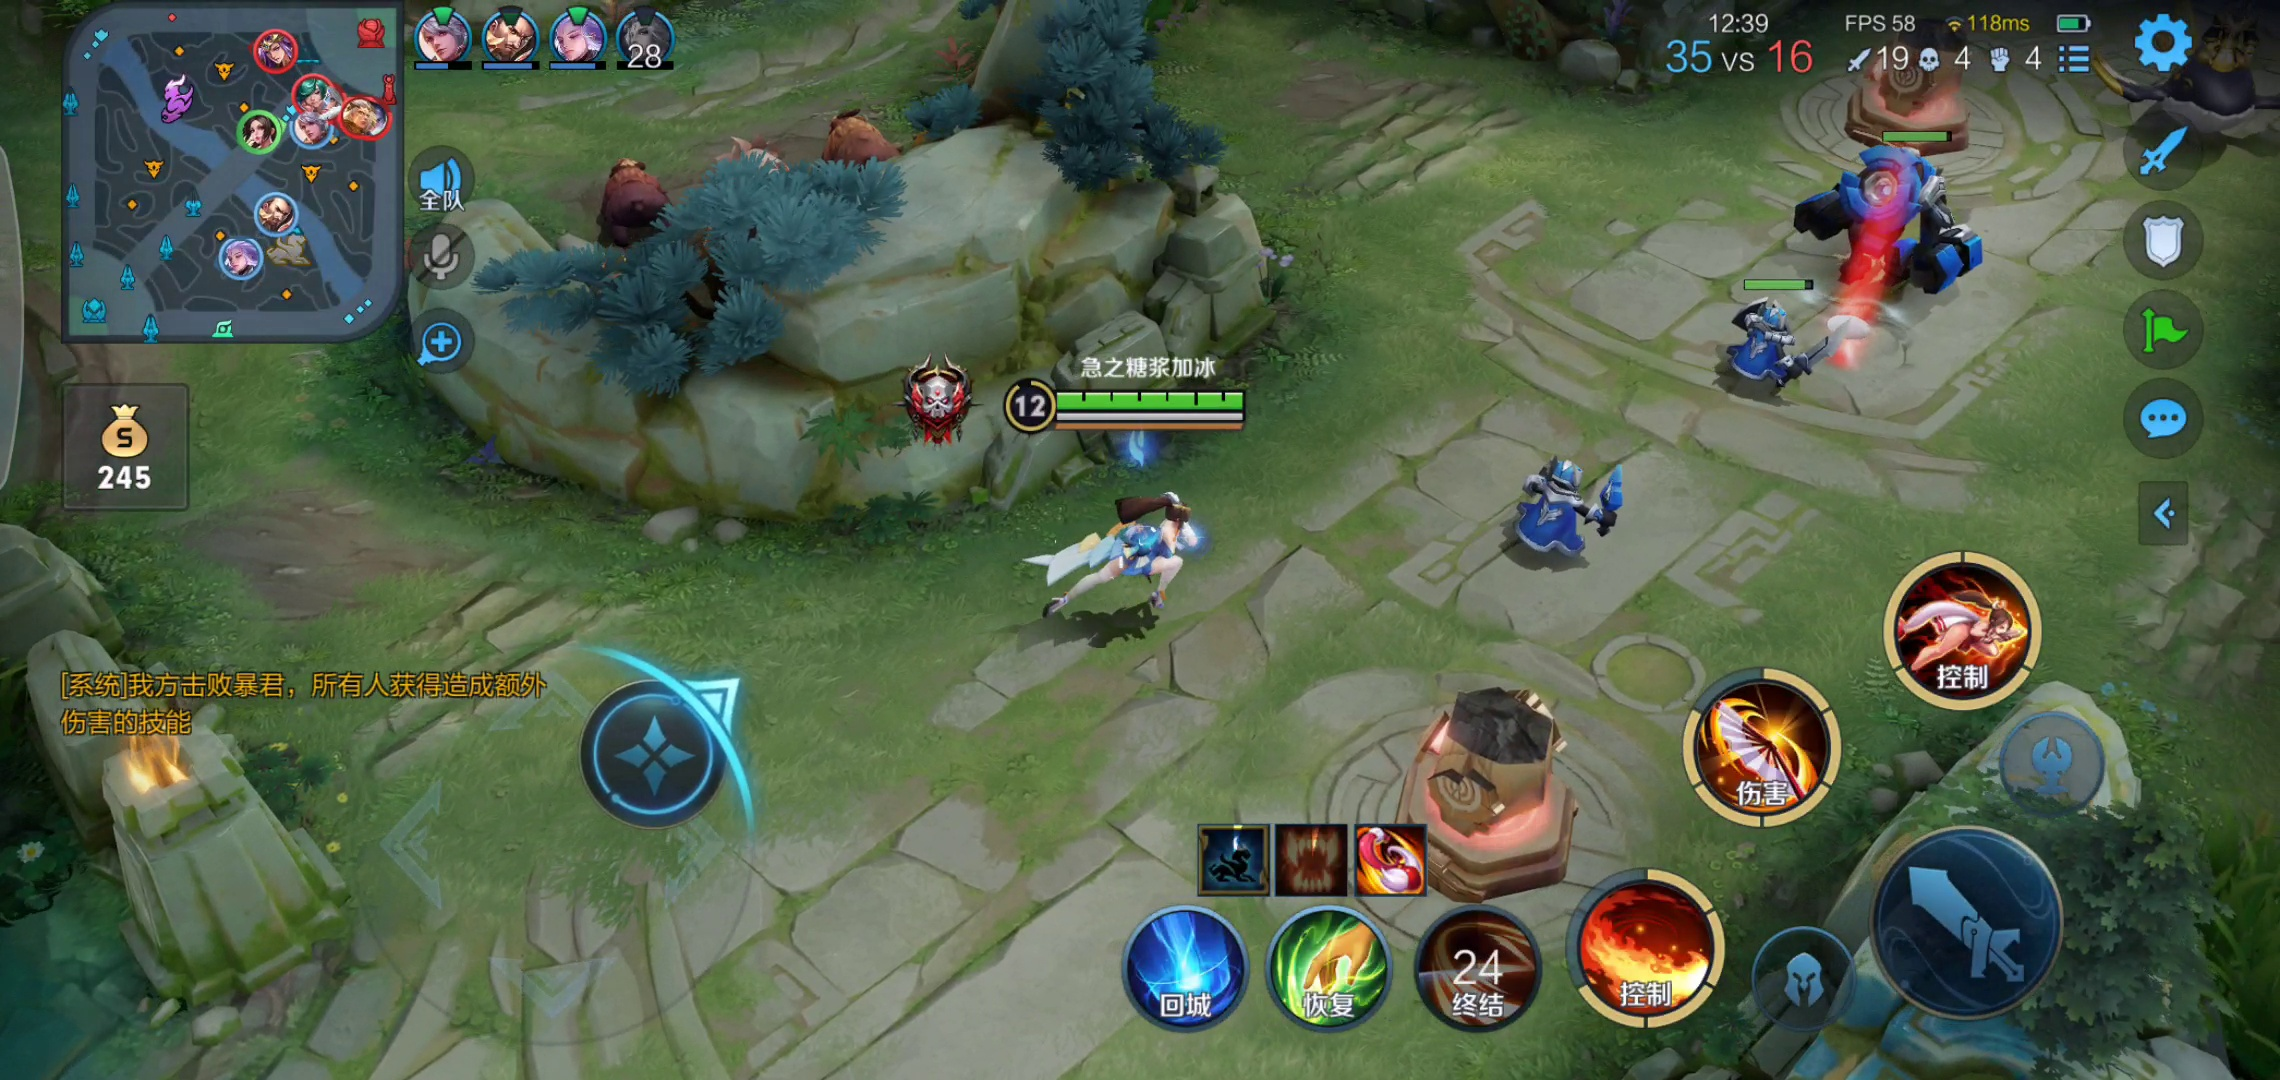grass: (2196, 826, 2280, 1070)
hero: (1024, 459, 1208, 634), (2108, 1, 2279, 126)
soldier: (1794, 135, 2007, 299), (1499, 451, 1642, 568), (1711, 286, 1842, 400)
tower: (1399, 696, 1594, 885), (1842, 22, 2010, 156), (1847, 47, 1976, 126)
wild_monster: (574, 94, 907, 238)
